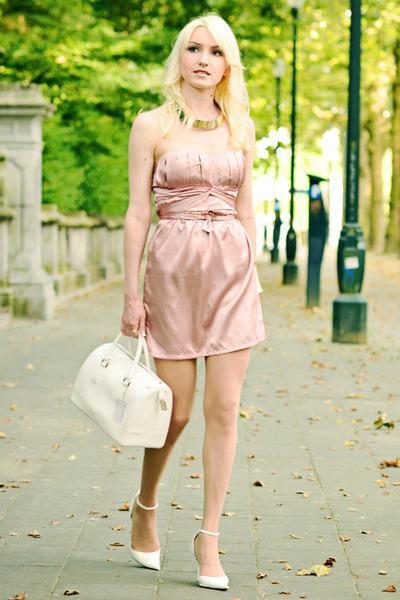bag: (71, 340, 171, 447)
dress: (136, 125, 264, 371)
shoe: (132, 548, 228, 590)
